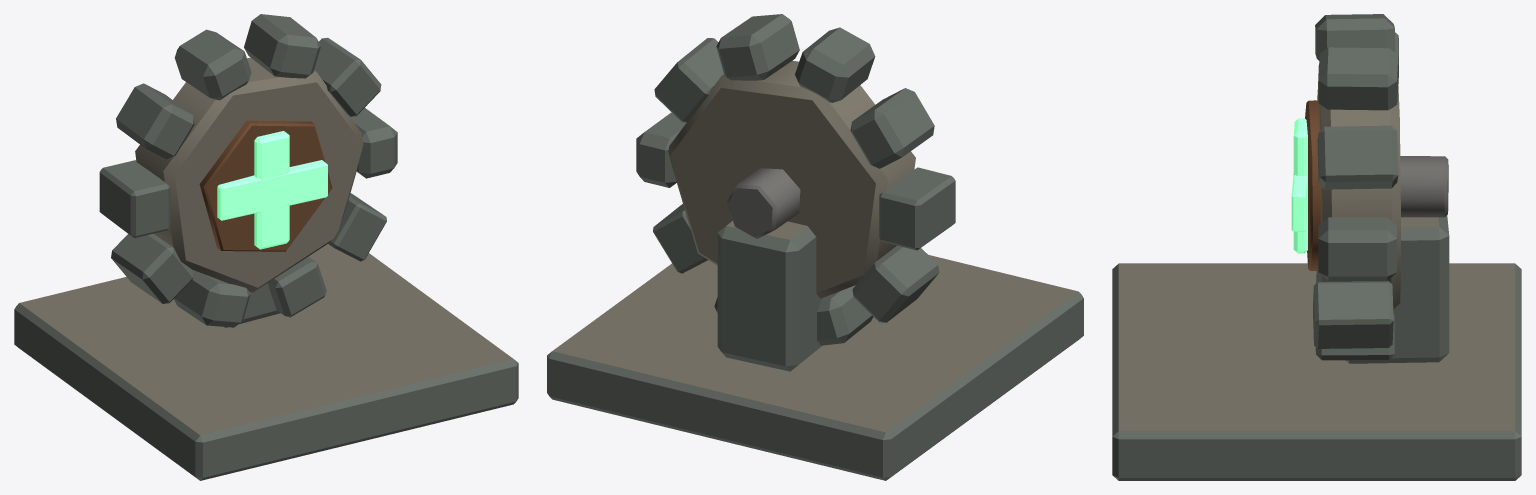
The model's file is R4X_RepairBooster_LOD1.fbx.
3 views of the same model, side by side, from view 1: azimuth 30°, elevation 25°; view 2: azimuth 150°, elevation 25°; view 3: azimuth 270°, elevation 25° (orthographic). The views are drawn at different scales.
Parts seen in each view (by area): view 1: R4X_RepairBooster_LOD1; view 2: R4X_RepairBooster_LOD1; view 3: R4X_RepairBooster_LOD1.
Boxes of the visible parts, <box> form: R4X_RepairBooster_LOD1: <box>14,14,518,480</box>; R4X_RepairBooster_LOD1: <box>547,14,1083,480</box>; R4X_RepairBooster_LOD1: <box>1112,14,1521,480</box>.
Bounding box in the file's own units: 0.52 × 0.5099 × 0.52.
